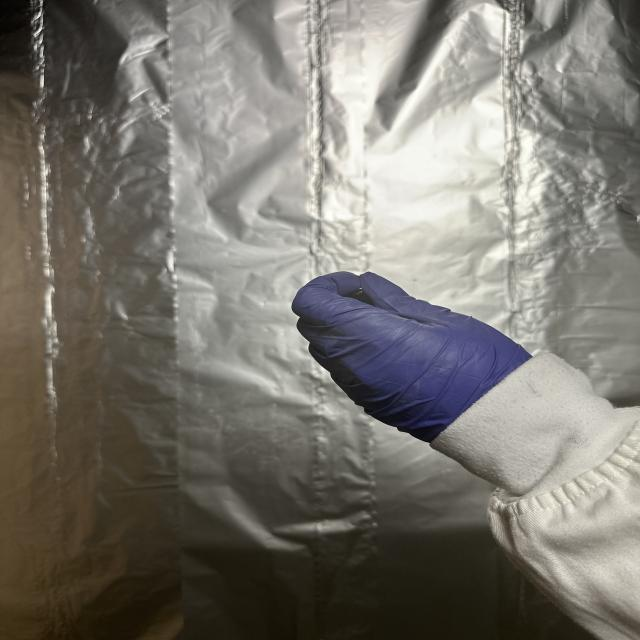gloves_contaminated: (292, 272, 531, 442)
